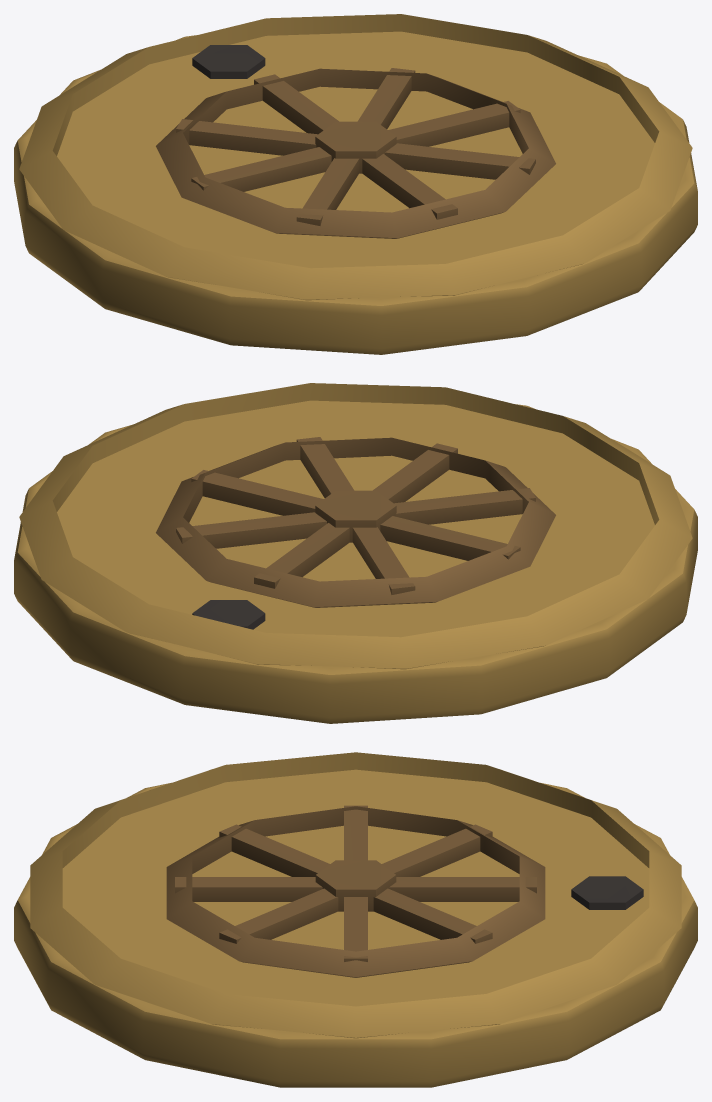
The model's file is curio_riverboatToken.glb.
The picture shows the model from 3 angles, top to bottom: view 1: azimuth 30°, elevation 25°; view 2: azimuth 150°, elevation 25°; view 3: azimuth 270°, elevation 25°; orthographic projection.
Parts seen in each view (by area): view 1: curio_riverboatToken; view 2: curio_riverboatToken; view 3: curio_riverboatToken.
Boxes of the visible parts, x1,y1,x2,y2 form: curio_riverboatToken: (14,14,697,354); curio_riverboatToken: (14,383,697,723); curio_riverboatToken: (14,752,697,1087).
Size of the model in its own units: 0.0332 by 0.0042 by 0.034.
